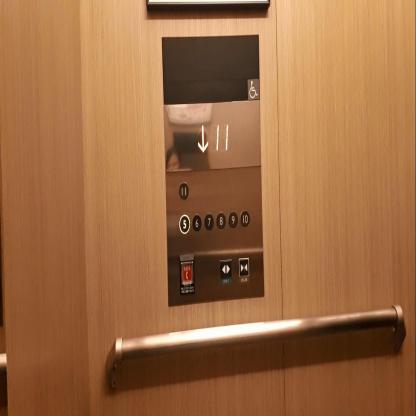10: (240, 209, 249, 228)
11: (178, 180, 189, 199)
5: (178, 211, 190, 237)
6: (192, 212, 202, 233)
7: (203, 210, 213, 230)
8: (216, 210, 226, 229)
9: (228, 210, 238, 229)
CH: (246, 77, 260, 100)
call: (179, 258, 194, 286)
close: (237, 256, 250, 278)
led: (165, 102, 261, 170)
open: (218, 258, 232, 279)
